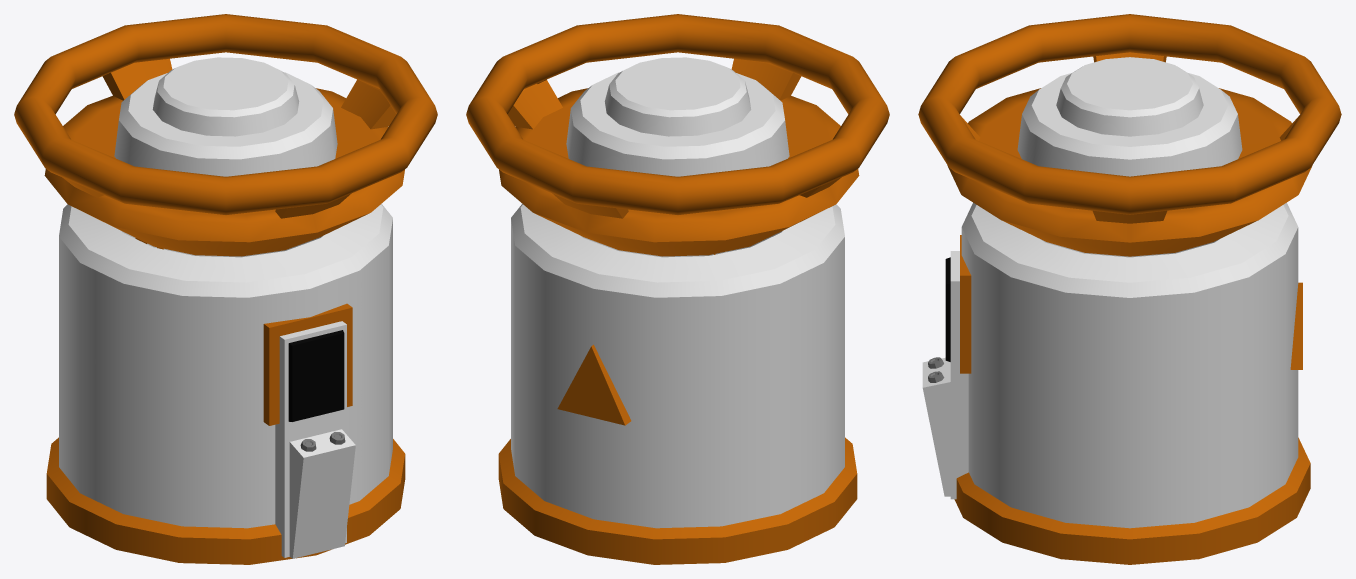
Rendered from Tank2.fbx.
3 renders of one model, left to right at view 1: azimuth 30°, elevation 25°; view 2: azimuth 150°, elevation 25°; view 3: azimuth 270°, elevation 25°, orthographic.
Parts seen in each view (by area): view 1: polySurface8; view 2: polySurface8; view 3: polySurface8.
Boxes of the visible parts, x1,y1,x2,y2 form: polySurface8: [14, 14, 437, 564]; polySurface8: [466, 14, 889, 564]; polySurface8: [918, 14, 1341, 564].
Bounding box in the file's own units: 352 × 352 × 372.
